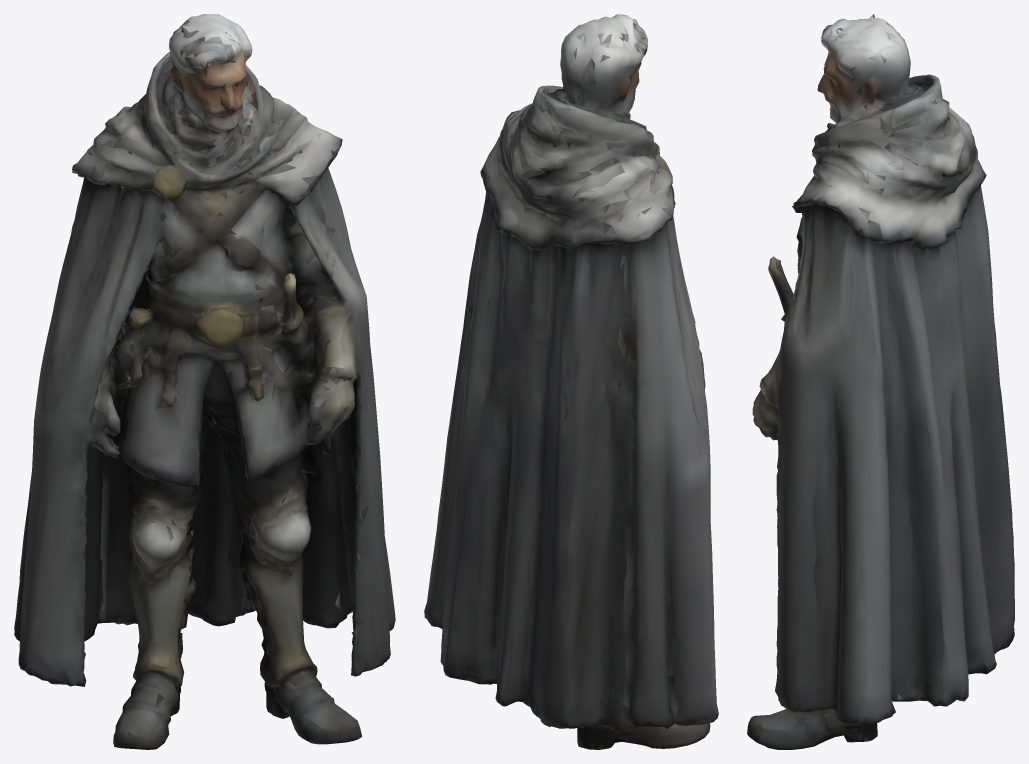
The model's file is Kilcriss_final.glb.
3 renders of one model, left to right at view 1: azimuth 30°, elevation 25°; view 2: azimuth 150°, elevation 25°; view 3: azimuth 270°, elevation 25°, orthographic. The views are drawn at different scales.
Visible parts, largest first — view 1: Mesh1.0; view 2: Mesh1.0; view 3: Mesh1.0.
Boxes of the visible parts, bbox=[...] form: Mesh1.0: bbox=[14, 14, 395, 749]; Mesh1.0: bbox=[424, 14, 718, 749]; Mesh1.0: bbox=[747, 14, 1014, 749].
Bounding box in the file's own units: 0.8812 × 1.8 × 0.6413.
Materials: 1 (1 with a texture image).
